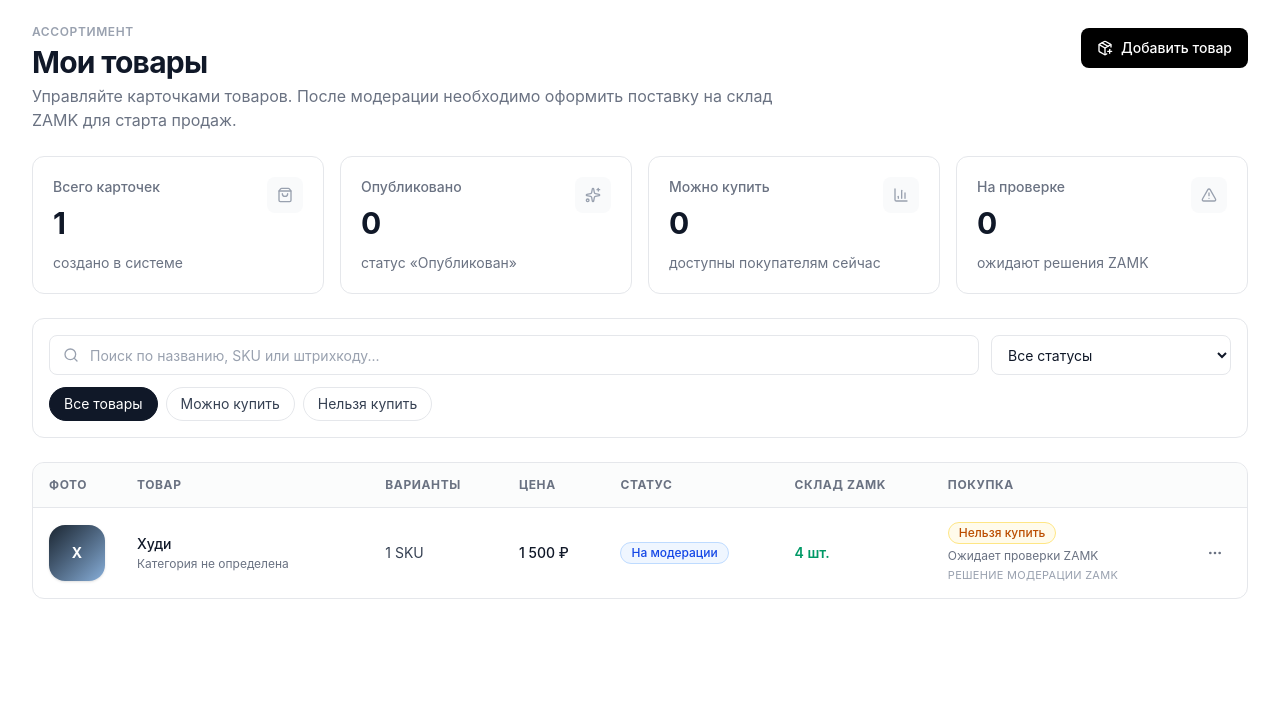
Test case: SellerProducts drawer — SKU workflow › pending moderation: no seller action, moderation named
What coordinates should you click on to do the following:
click the text "Худи"
I would click on:
 (154, 543)
Its box is [137, 535, 172, 552].
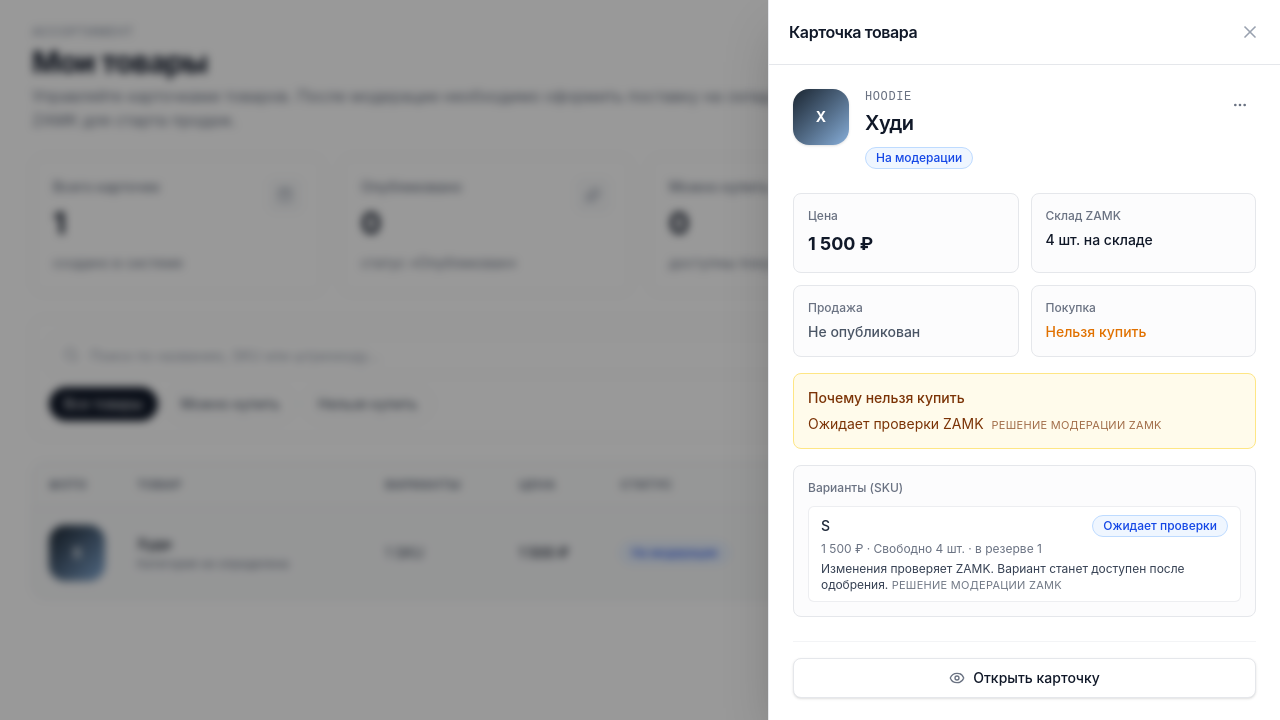
Check: the element with test id "drawer-sku-list" shows "Решение модерации ZAMK", box [892, 578, 1062, 592]
